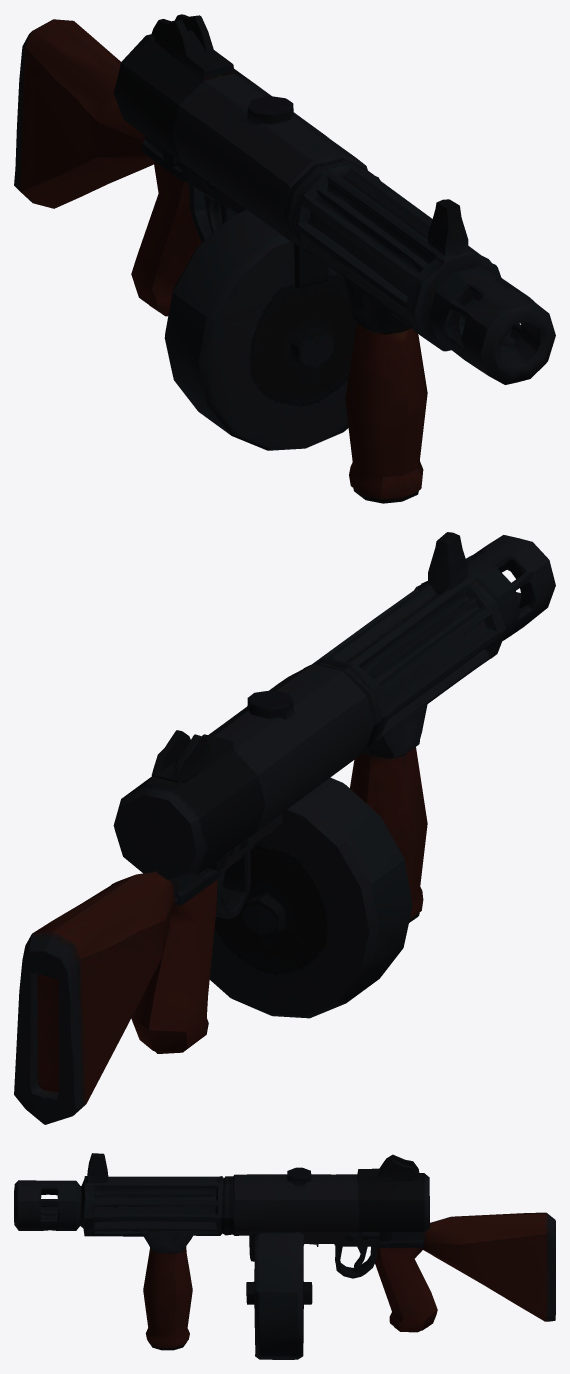
File: drum_magazine_submachine_gun_low.glb
3 views of the same model, one above another, from view 1: azimuth 30°, elevation 25°; view 2: azimuth 150°, elevation 25°; view 3: azimuth 270°, elevation 25° (orthographic). The views are drawn at different scales.
Visible parts, largest first — view 1: world; view 2: world; view 3: world.
Part boxes in pixels (x1=…): world: x1=14, y1=14, x2=555, y2=503; world: x1=14, y1=532, x2=555, y2=1124; world: x1=14, y1=1153, x2=555, y2=1359.
Bounding box in the file's own units: 0.2601 × 0.4072 × 1.
Materials: 1 (1 with a texture image).
